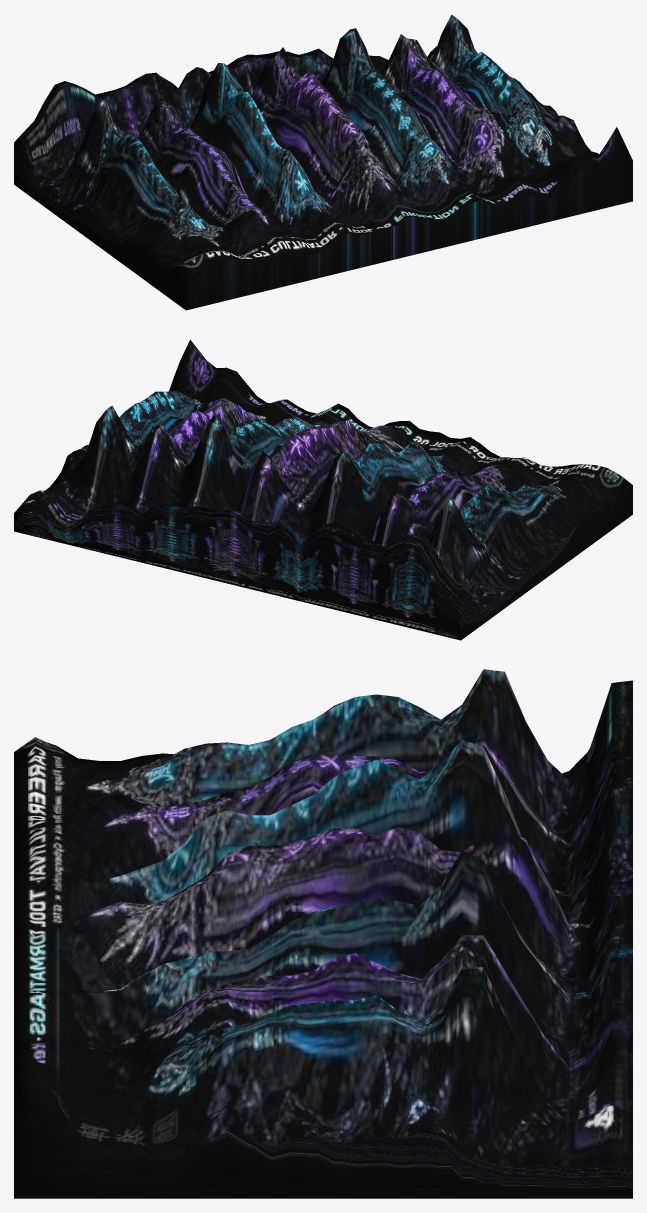
File: CAREER_07_Tool_06_Flags.glb
3 views of the same model, one above another, from view 1: azimuth 30°, elevation 25°; view 2: azimuth 150°, elevation 25°; view 3: azimuth 270°, elevation 25° (orthographic). The views are drawn at different scales.
Parts seen in each view (by area): view 1: CAREER_07_Tool_06_Flags; view 2: CAREER_07_Tool_06_Flags; view 3: CAREER_07_Tool_06_Flags.
Part boxes in pixels (bbox=[...]): CAREER_07_Tool_06_Flags: bbox=[14, 15, 632, 310]; CAREER_07_Tool_06_Flags: bbox=[14, 339, 632, 640]; CAREER_07_Tool_06_Flags: bbox=[14, 669, 632, 1198].
Bounding box in the file's own units: 2 × 0.51 × 1.33.
1 material, 1 textured.
